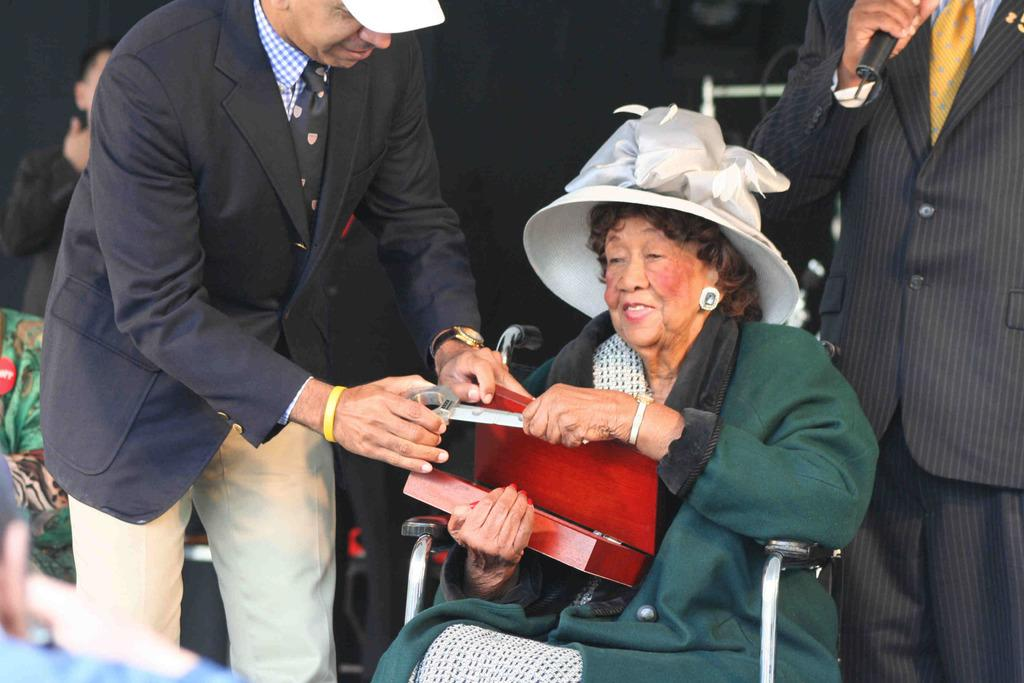Hat: (520, 106, 796, 320), (338, 0, 448, 35)
